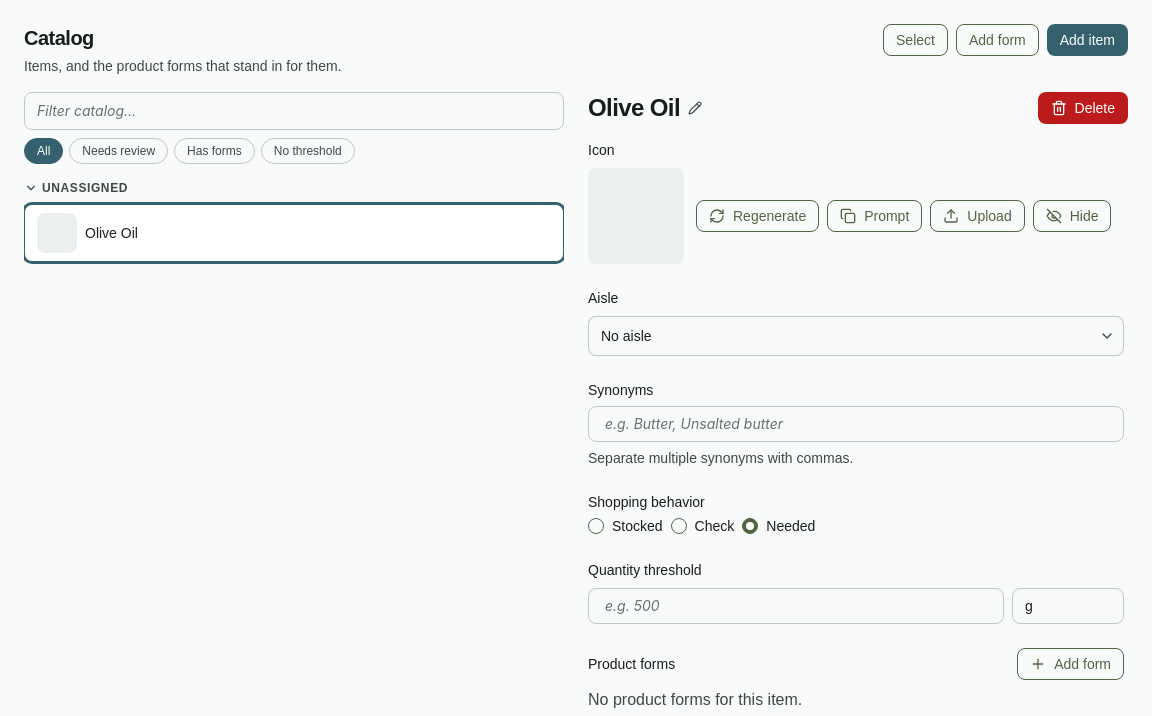
Test case: the catalog record editor › name editing — the commit contract › shows a name error when updateCanonItemName returns an error
The image size is (1152, 716).
Click the button named "edit name".
click(695, 108)  # box [688, 101, 702, 115]
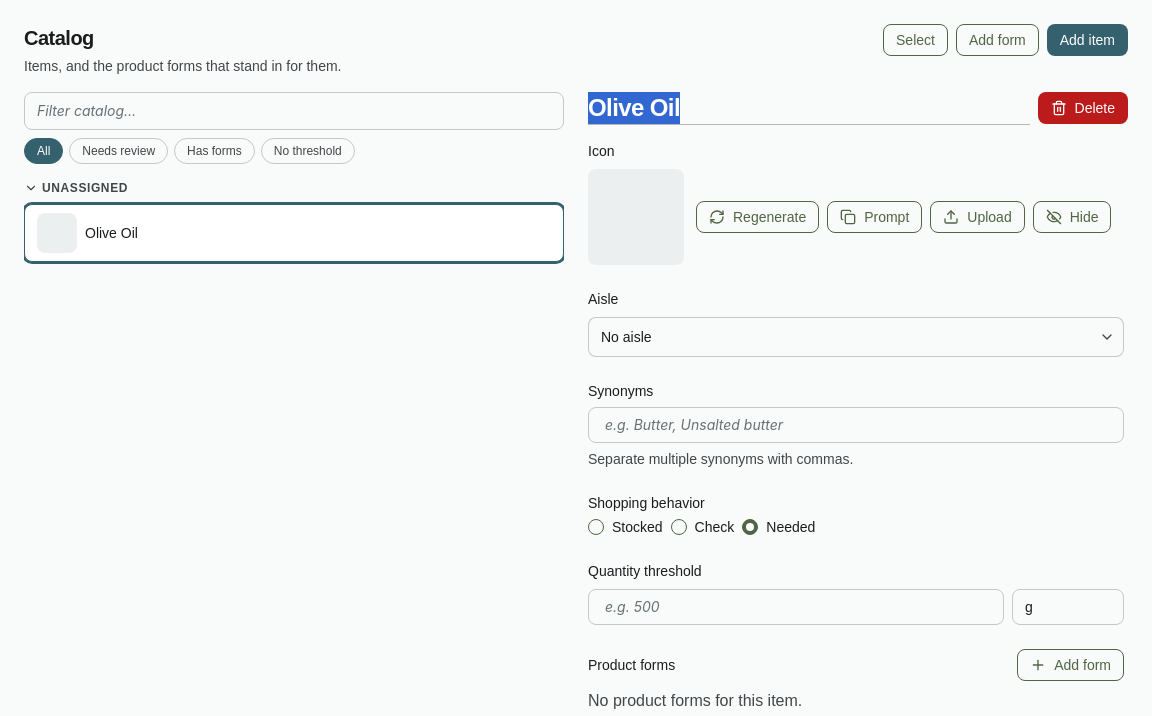
Replace the text in the field with test id "canon-detail-name-input" with "Changed" at (809, 108), box [588, 92, 1030, 125]
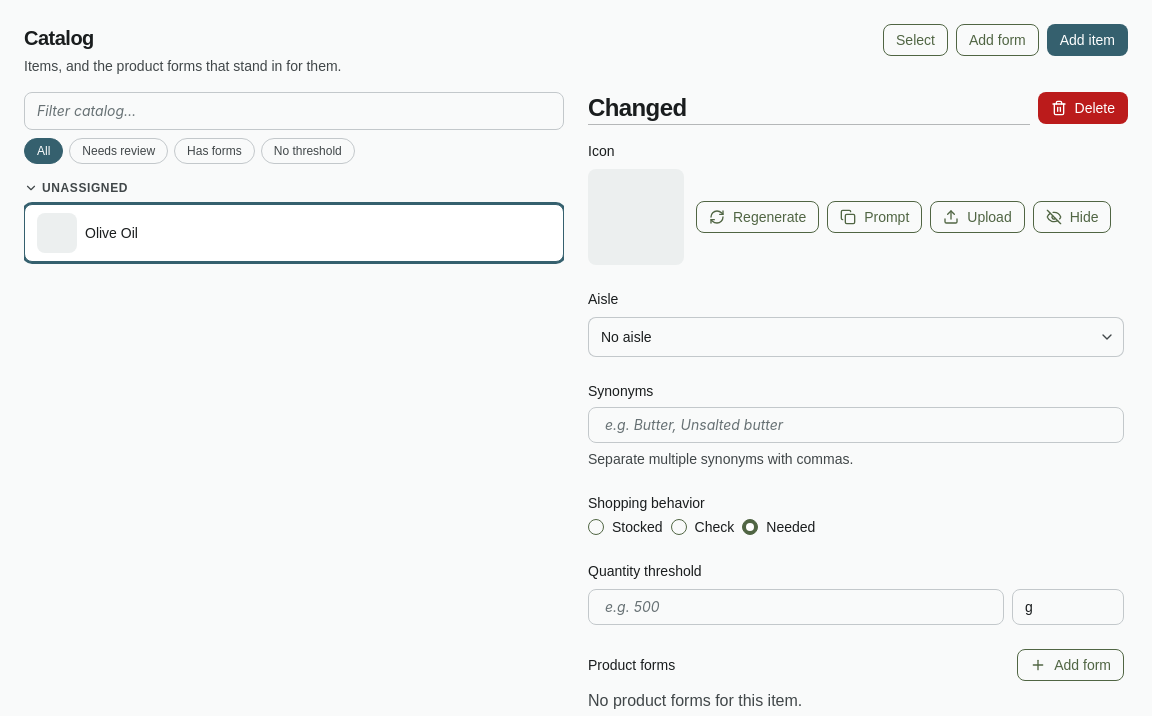
Press Enter in the field with test id "canon-detail-name-input", box [588, 92, 1030, 125]
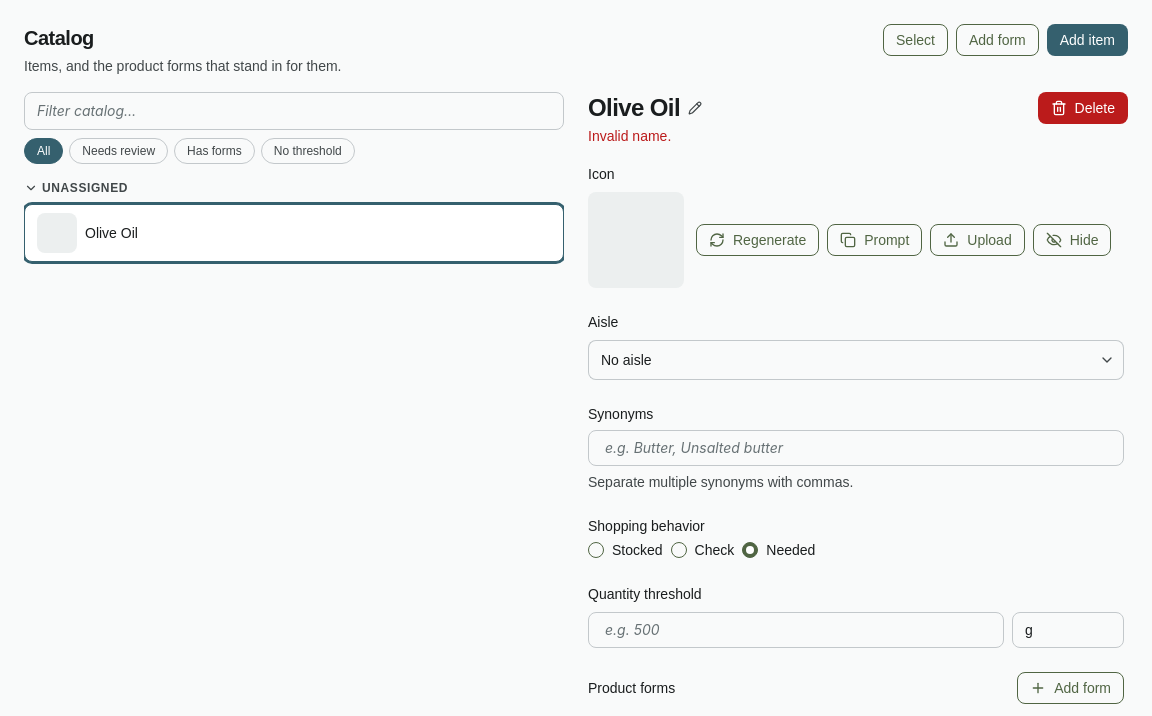
Now the text "Invalid name." is shown, box [588, 128, 671, 144]
